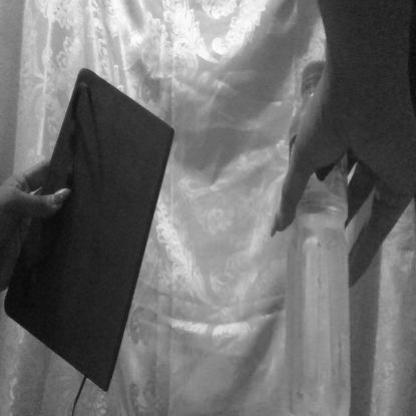Plastic Bottle: (275, 50, 360, 416)
